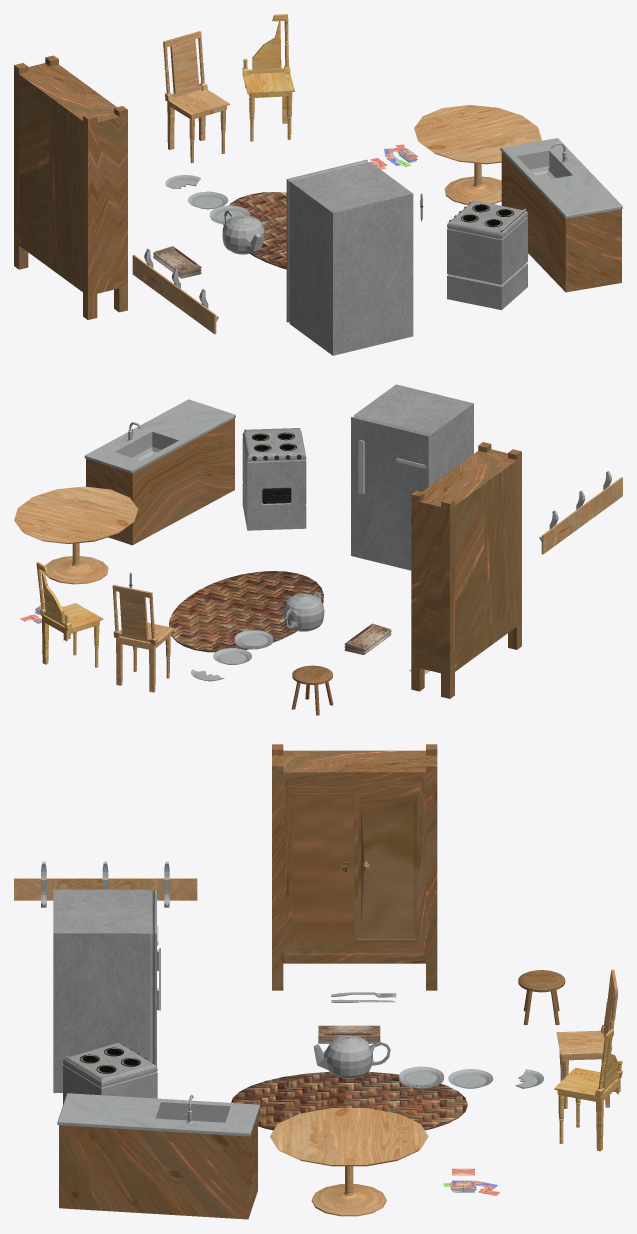
The model's file is novos_modelos.fbx.
3 views of the same model, one above another, from view 1: azimuth 30°, elevation 25°; view 2: azimuth 150°, elevation 25°; view 3: azimuth 270°, elevation 25° (orthographic). The views are drawn at different scales.
Visible parts, largest first — view 1: armario, m, j, l, i, e, f, o, n, q, c, r (+1 smaller); view 2: armario, m, j, o, i, l, e, f, n, q, c, a (+3 smaller); view 3: armario, j, m, i, pasted__pCube1, o, l, f, n, e, q, c (+4 smaller).
Boxes of the visible parts, left/top/right/bottom form: armario: left=14, top=55, right=127, bottom=319; m: left=286, top=159, right=413, bottom=355; j: left=500, top=138, right=622, bottom=292; l: left=447, top=200, right=527, bottom=310; i: left=414, top=105, right=541, bottom=204; e: left=163, top=31, right=229, bottom=162; f: left=242, top=14, right=294, bottom=141; o: left=223, top=192, right=286, bottom=269; n: left=132, top=255, right=216, bottom=334; q: left=222, top=210, right=264, bottom=254; c: left=153, top=246, right=201, bottom=278; r: left=188, top=191, right=228, bottom=209; armario: left=411, top=442, right=521, bottom=698; m: left=351, top=384, right=473, bottom=570; j: left=84, top=399, right=235, bottom=545; o: left=169, top=571, right=323, bottom=652; i: left=14, top=486, right=137, bottom=584; l: left=242, top=428, right=306, bottom=530; e: left=112, top=584, right=174, bottom=692; f: left=36, top=562, right=103, bottom=667; n: left=541, top=477, right=622, bottom=554; q: left=283, top=591, right=324, bottom=631; c: left=344, top=623, right=390, bottom=654; a: left=292, top=665, right=332, bottom=684; armario: left=272, top=744, right=437, bottom=990; j: left=57, top=1093, right=259, bottom=1219; m: left=53, top=889, right=160, bottom=1092; i: left=270, top=1108, right=428, bottom=1216; pasted__pCube1: left=292, top=793, right=353, bottom=942; o: left=231, top=1072, right=467, bottom=1130; l: left=63, top=1042, right=157, bottom=1104; f: left=554, top=1029, right=622, bottom=1151; n: left=14, top=878, right=197, bottom=900; e: left=556, top=969, right=617, bottom=1108; q: left=313, top=1035, right=390, bottom=1078; c: left=318, top=1025, right=380, bottom=1043.
Size of the model in its own units: 25.71 by 11.18 by 25.44.
Materials: 22 (18 with a texture image).
